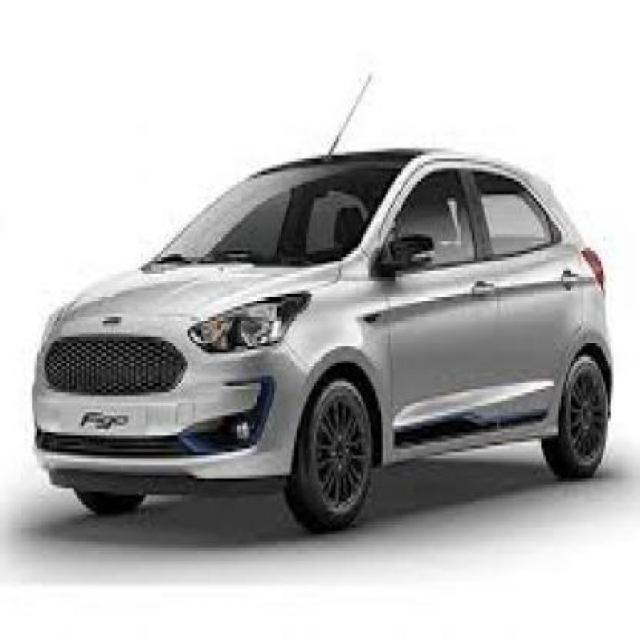vehicle: (26, 64, 622, 546)
